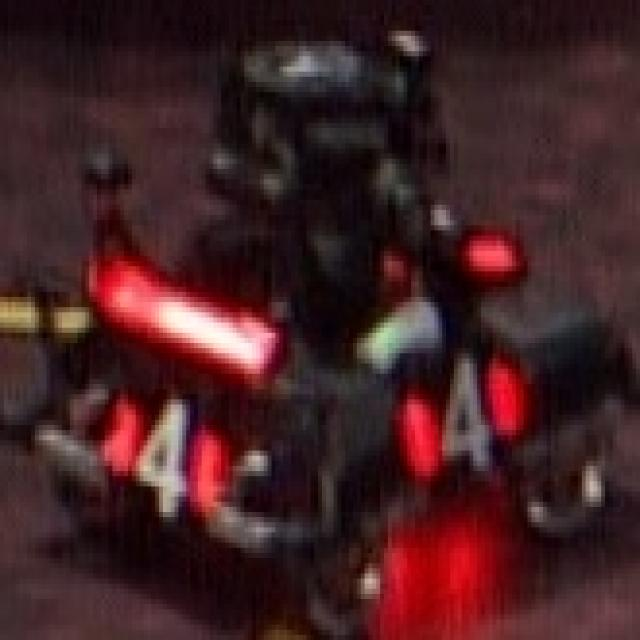R4: (400, 348, 528, 481), (101, 389, 217, 522)
